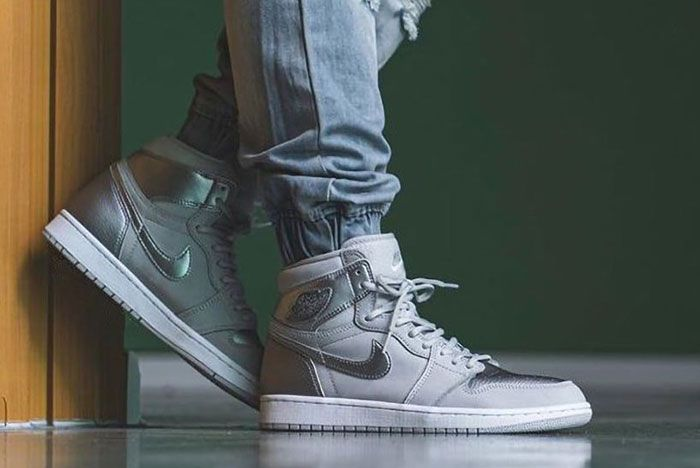Jordan 1: (254, 231, 598, 439), (40, 129, 275, 409)
